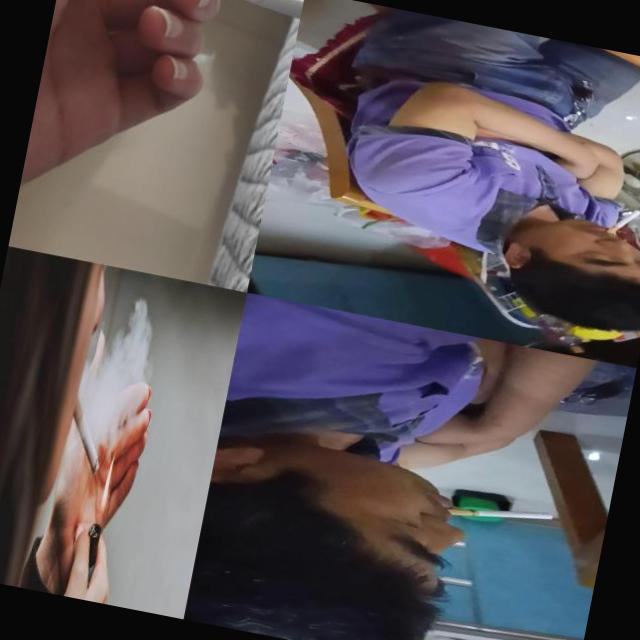cigarette: (153, 0, 305, 31), (59, 393, 112, 477), (446, 494, 554, 534), (605, 205, 640, 239)
